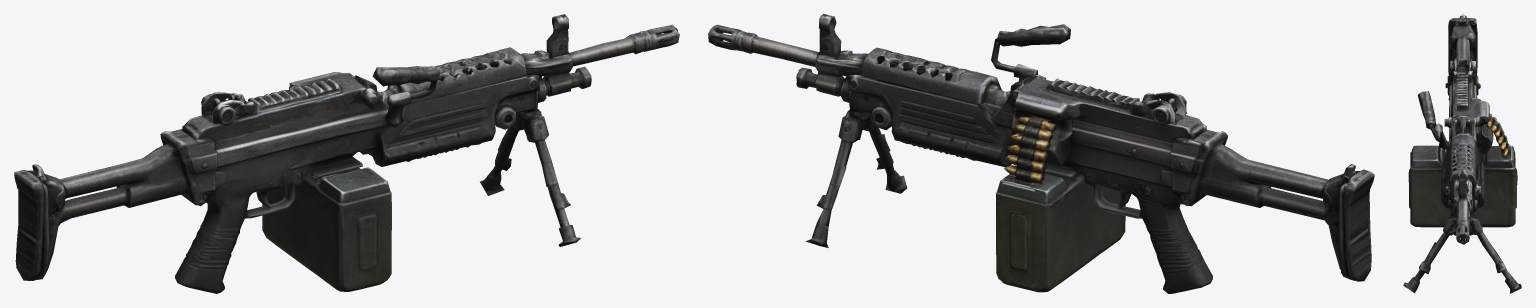
3 renders of one model, left to right at view 1: azimuth 30°, elevation 25°; view 2: azimuth 150°, elevation 25°; view 3: azimuth 270°, elevation 25°, orthographic. The views are drawn at different scales.
Visible parts, largest first — view 1: tripo_node_970773bd-eba6-4662-9a29-dff1436554a1; view 2: tripo_node_970773bd-eba6-4662-9a29-dff1436554a1; view 3: tripo_node_970773bd-eba6-4662-9a29-dff1436554a1.
Part boxes in pixels (x1,y1,x2,y2): tripo_node_970773bd-eba6-4662-9a29-dff1436554a1: (14, 14, 679, 293); tripo_node_970773bd-eba6-4662-9a29-dff1436554a1: (708, 14, 1374, 293); tripo_node_970773bd-eba6-4662-9a29-dff1436554a1: (1403, 14, 1521, 293).
Size of the model in its own units: 0.9797 by 0.3102 by 0.2323.
1 material, 1 textured.
